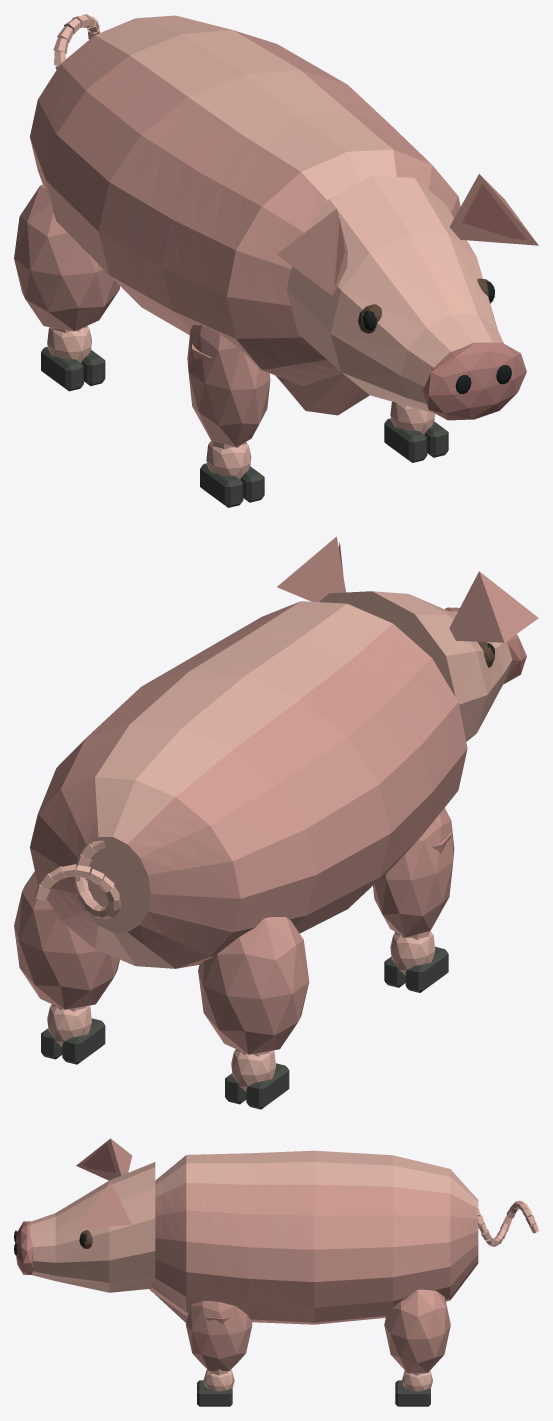
Rendered from pig.glb.
3 renders of one model, top to bottom at view 1: azimuth 30°, elevation 25°; view 2: azimuth 150°, elevation 25°; view 3: azimuth 270°, elevation 25°, orthographic. The views are drawn at different scales.
Parts seen in each view (by area): view 1: Body_mesh, Head_mesh, UpperLeg.002_mesh, UpperLeg_mesh, Ear.001_mesh, Ear_mesh, Foot_mesh, Foot.001_mesh, Foot.002_mesh, LowerLeg_mesh, LowerLeg.002_mesh, LowerLeg.001_mesh (+1 smaller); view 2: Body_mesh, UpperLeg.002_mesh, Head_mesh, UpperLeg.003_mesh, UpperLeg_mesh, Ear_mesh, Tail_mesh, Ear.001_mesh, Foot_mesh, Foot.002_mesh, Foot.003_mesh, LowerLeg_mesh (+2 smaller); view 3: Body_mesh, Head_mesh, UpperLeg.003_mesh, UpperLeg.001_mesh, Ear_mesh, Ear.001_mesh, Tail_mesh, Foot.003_mesh, Foot.001_mesh, LowerLeg.001_mesh, LowerLeg.003_mesh.
Part boxes in pixels (x1=…): Body_mesh: x1=30, y1=15, x2=460, y2=385; Head_mesh: x1=275, y1=176, x2=526, y2=420; UpperLeg.002_mesh: x1=14, y1=184, x2=120, y2=331; UpperLeg_mesh: x1=187, y1=325, x2=270, y2=447; Ear.001_mesh: x1=449, y1=174, x2=538, y2=245; Ear_mesh: x1=277, y1=208, x2=347, y2=295; Foot_mesh: x1=200, y1=463, x2=264, y2=507; Foot.001_mesh: x1=384, y1=418, x2=448, y2=462; Foot.002_mesh: x1=41, y1=346, x2=105, y2=391; LowerLeg_mesh: x1=206, y1=440, x2=251, y2=479; LowerLeg.002_mesh: x1=47, y1=325, x2=91, y2=362; LowerLeg.001_mesh: x1=390, y1=401, x2=435, y2=434; Body_mesh: x1=30, y1=601, x2=467, y2=968; UpperLeg.002_mesh: x1=198, y1=917, x2=309, y2=1054; Head_mesh: x1=319, y1=591, x2=526, y2=741; UpperLeg.003_mesh: x1=14, y1=871, x2=119, y2=1009; UpperLeg_mesh: x1=373, y1=808, x2=454, y2=937; Ear_mesh: x1=449, y1=571, x2=538, y2=642; Tail_mesh: x1=35, y1=840, x2=120, y2=919; Ear.001_mesh: x1=277, y1=536, x2=345, y2=601; Foot_mesh: x1=384, y1=946, x2=448, y2=992; Foot.002_mesh: x1=225, y1=1063, x2=289, y2=1109; Foot.003_mesh: x1=41, y1=1018, x2=105, y2=1064; LowerLeg_mesh: x1=390, y1=931, x2=435, y2=975; Body_mesh: x1=150, y1=1150, x2=478, y2=1324; Head_mesh: x1=14, y1=1162, x2=187, y2=1322; UpperLeg.003_mesh: x1=384, y1=1289, x2=450, y2=1373; UpperLeg.001_mesh: x1=186, y1=1300, x2=252, y2=1371; Ear_mesh: x1=76, y1=1138, x2=132, y2=1180; Ear.001_mesh: x1=76, y1=1182, x2=131, y2=1228; Tail_mesh: x1=478, y1=1200, x2=538, y2=1246; Foot.003_mesh: x1=395, y1=1380, x2=430, y2=1406; Foot.001_mesh: x1=197, y1=1380, x2=232, y2=1406; LowerLeg.001_mesh: x1=203, y1=1369, x2=234, y2=1391; LowerLeg.003_mesh: x1=402, y1=1370, x2=432, y2=1391.
Bounding box in the file's own units: 0.8208 × 0.92 × 2.05.
